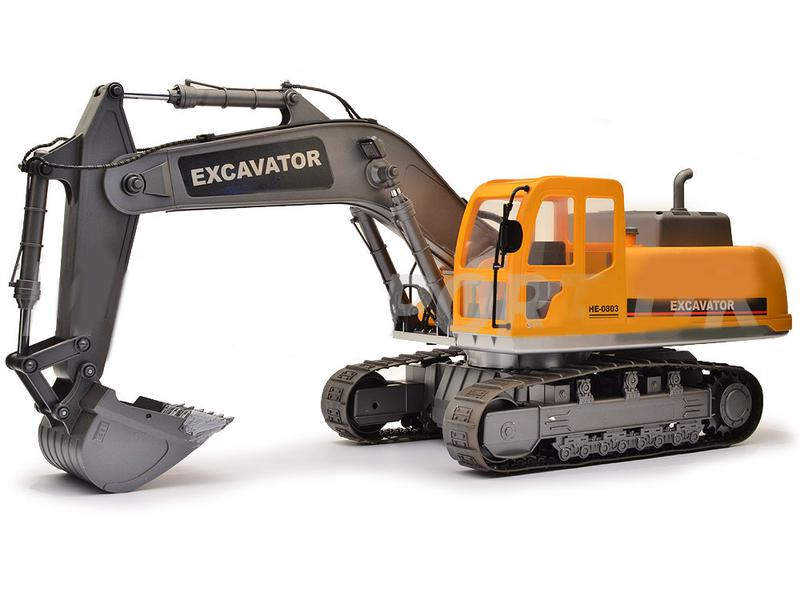shovel: (7, 75, 799, 499)
